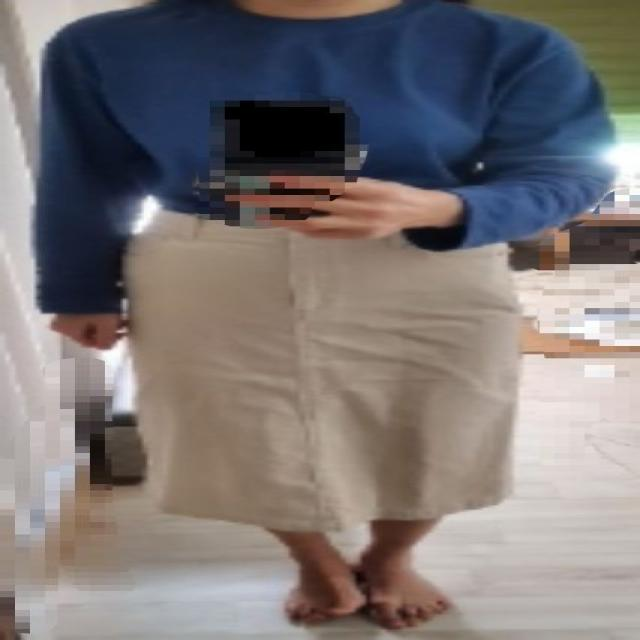longsleeve: (37, 0, 610, 314)
skirt: (127, 208, 522, 525)
